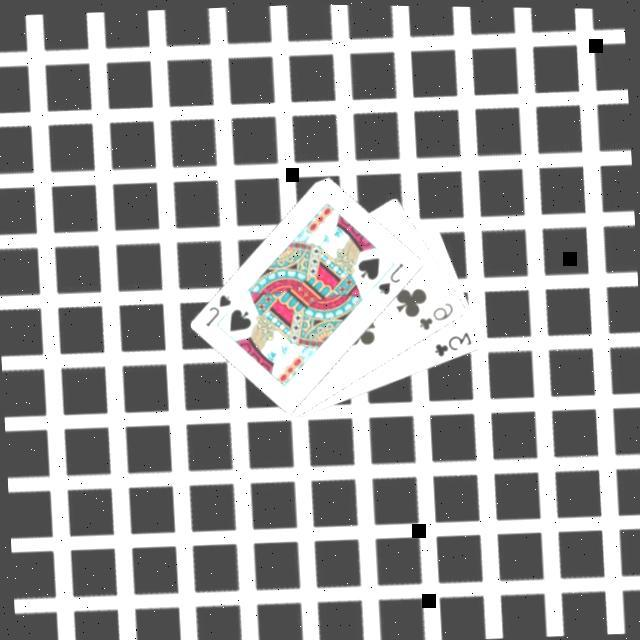3C: (430, 328, 476, 362)
6C: (414, 300, 457, 334)
JS: (372, 260, 408, 300), (200, 292, 236, 332)
